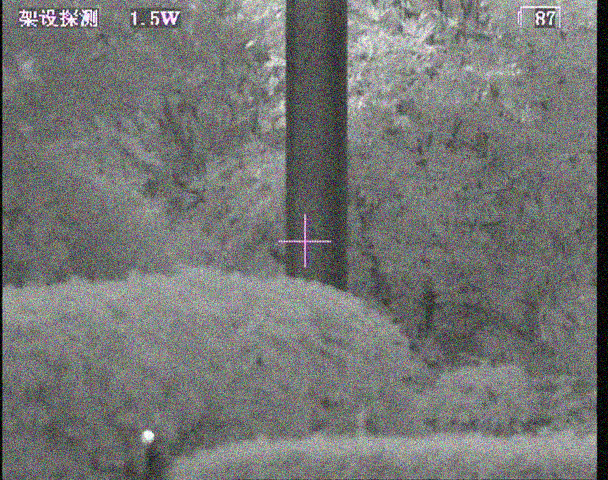my: (140, 429, 154, 446)
